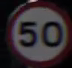Speed limit: (7, 2, 65, 59)
